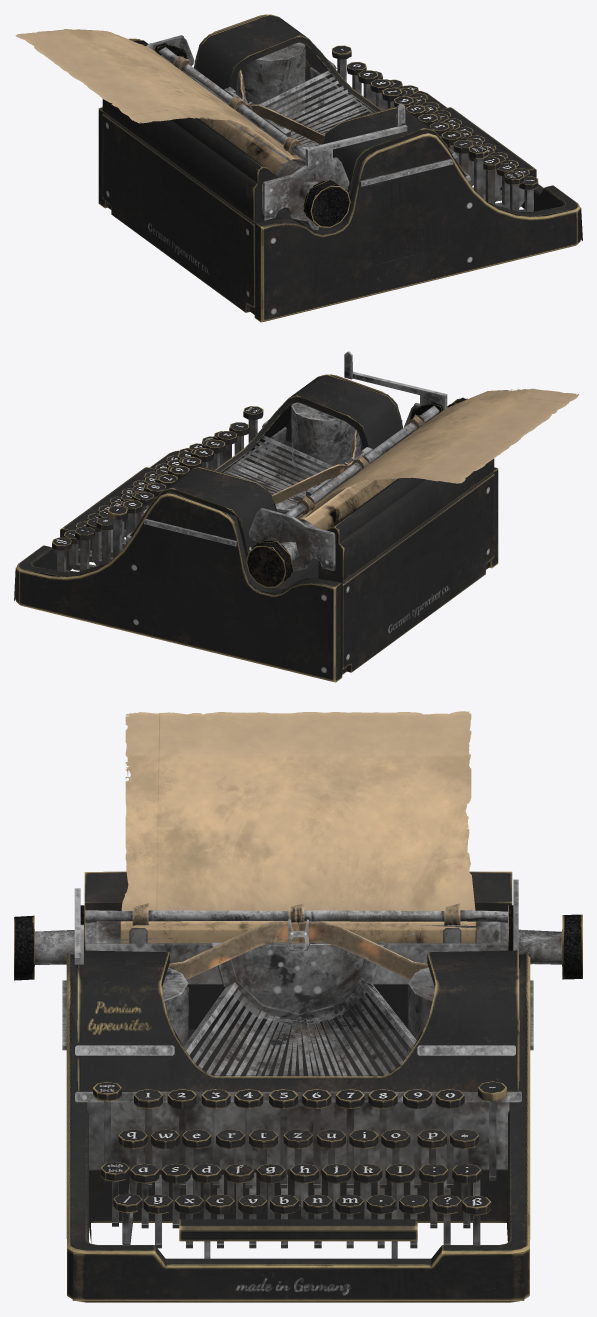
Rendered from L2_Antique4.fbx.
3 renders of one model, top to bottom at view 1: azimuth 30°, elevation 25°; view 2: azimuth 150°, elevation 25°; view 3: azimuth 270°, elevation 25°, orthographic. The views are drawn at different scales.
Parts seen in each view (by area): view 1: L2_LR_Typewriter; view 2: L2_LR_Typewriter; view 3: L2_LR_Typewriter.
Boxes of the visible parts, x1,y1,x2,y2 form: L2_LR_Typewriter: (15, 14, 582, 322); L2_LR_Typewriter: (14, 351, 578, 682); L2_LR_Typewriter: (14, 711, 582, 1302).
Bounding box in the file's own units: 0.3026 × 0.1413 × 0.2458.
2 materials, 2 textured.
